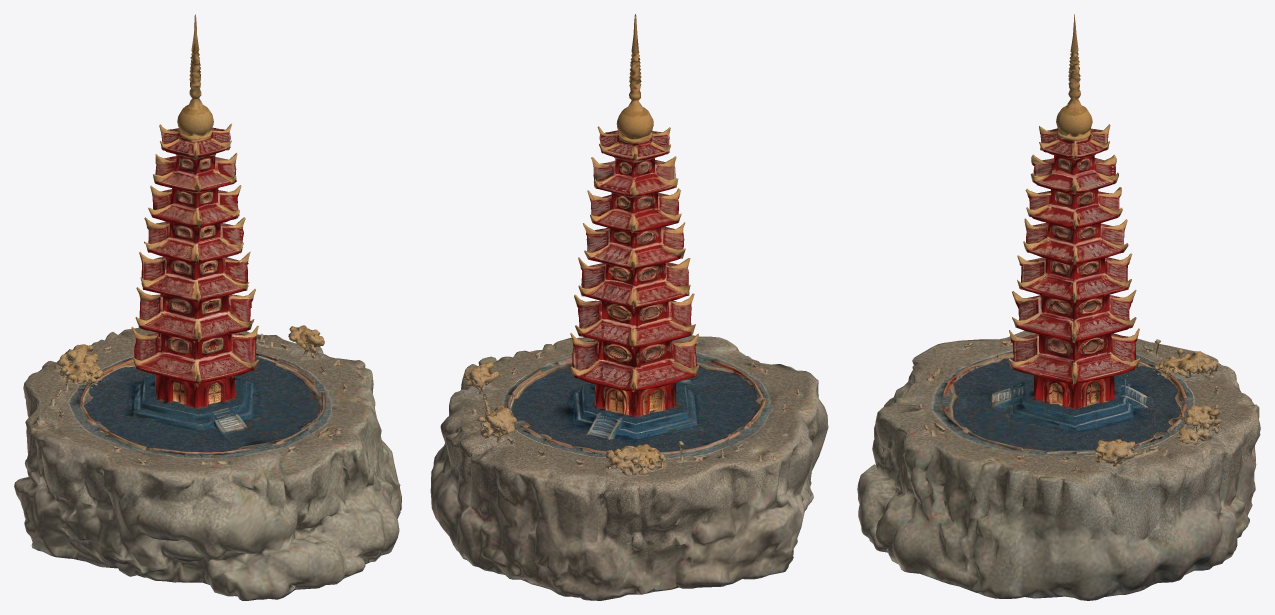
The model's file is spireC.glb.
3 views of the same model, side by side, from view 1: azimuth 30°, elevation 25°; view 2: azimuth 150°, elevation 25°; view 3: azimuth 270°, elevation 25° (orthographic). The views are drawn at different scales.
Size of the model in its own units: 1.34 by 1.9 by 1.38.
1 material, 1 textured.
